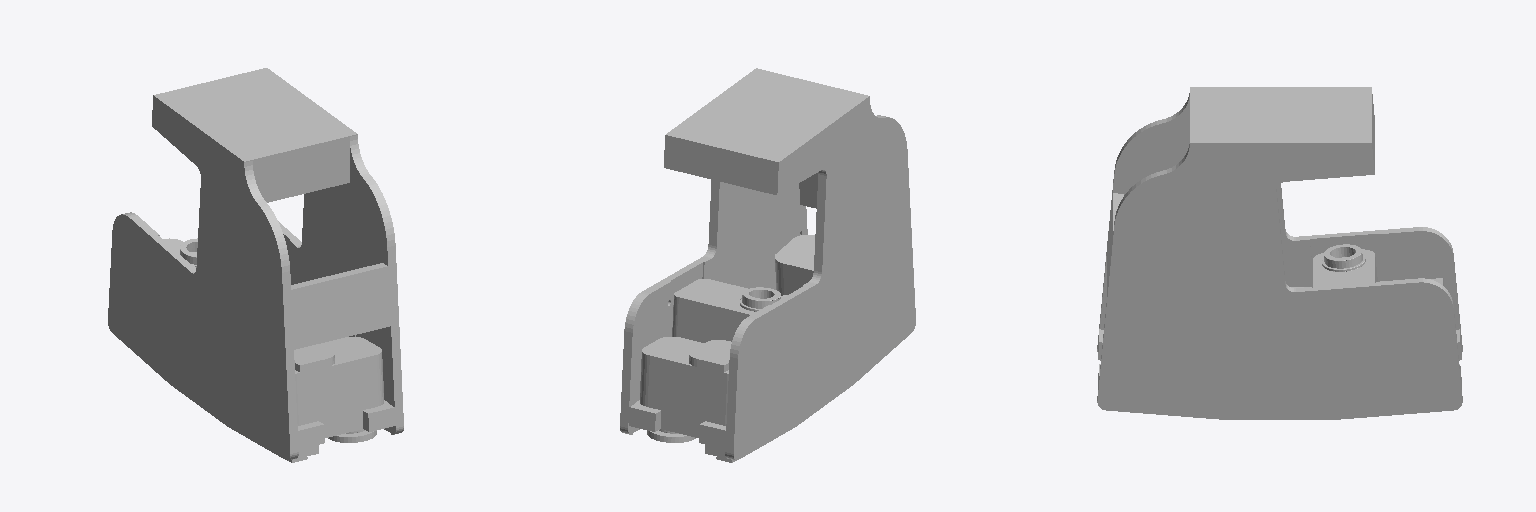
File: base_link_left.obj
3 renders of one model, left to right at view 1: azimuth 30°, elevation 25°; view 2: azimuth 150°, elevation 25°; view 3: azimuth 270°, elevation 25°, orthographic.
Parts seen in each view (by area): view 1: <STL_BINARY>; view 2: <STL_BINARY>; view 3: <STL_BINARY>.
Part boxes in pixels (left/top/right/bottom): <STL_BINARY>: left=108, top=68, right=403, bottom=462; <STL_BINARY>: left=620, top=68, right=915, bottom=462; <STL_BINARY>: left=1097, top=87, right=1462, bottom=419.
Size of the model in its own units: 0.0408 by 0.0967 by 0.1135.